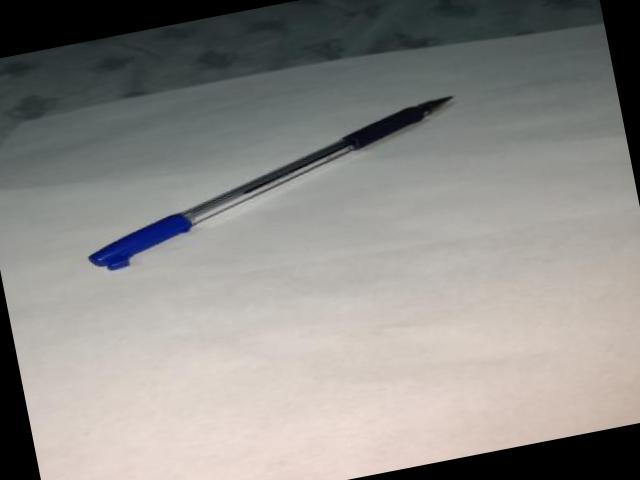PEN: (76, 69, 460, 285)
